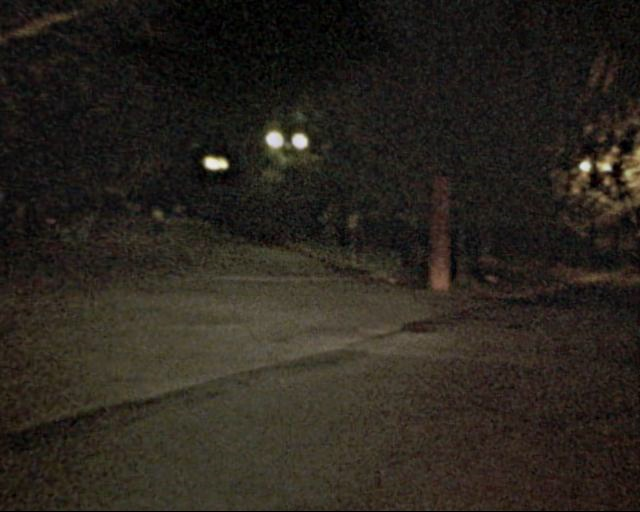person: (157, 202, 175, 246)
